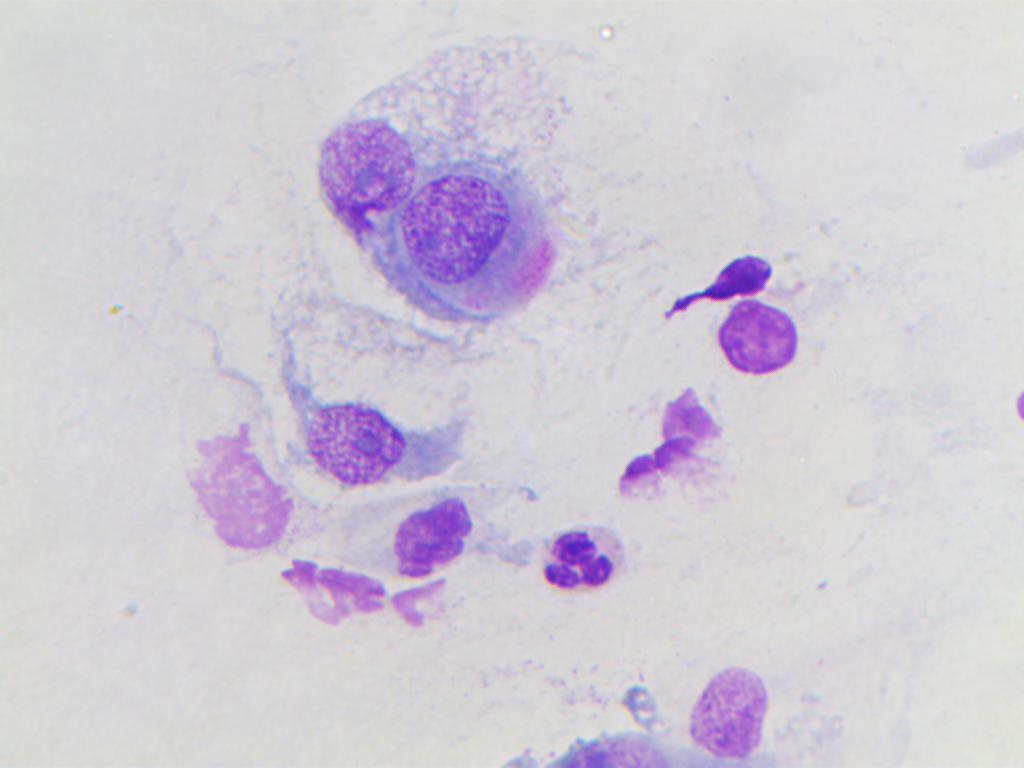artifact: (147, 409, 297, 570), (593, 373, 728, 516), (267, 566, 453, 636), (632, 242, 783, 321)
epithelial: (311, 484, 481, 575), (406, 159, 520, 292), (311, 109, 411, 249), (682, 634, 775, 766), (709, 294, 801, 375)
goblet_cell: (272, 293, 467, 493)
neutrophil: (532, 522, 635, 596)
